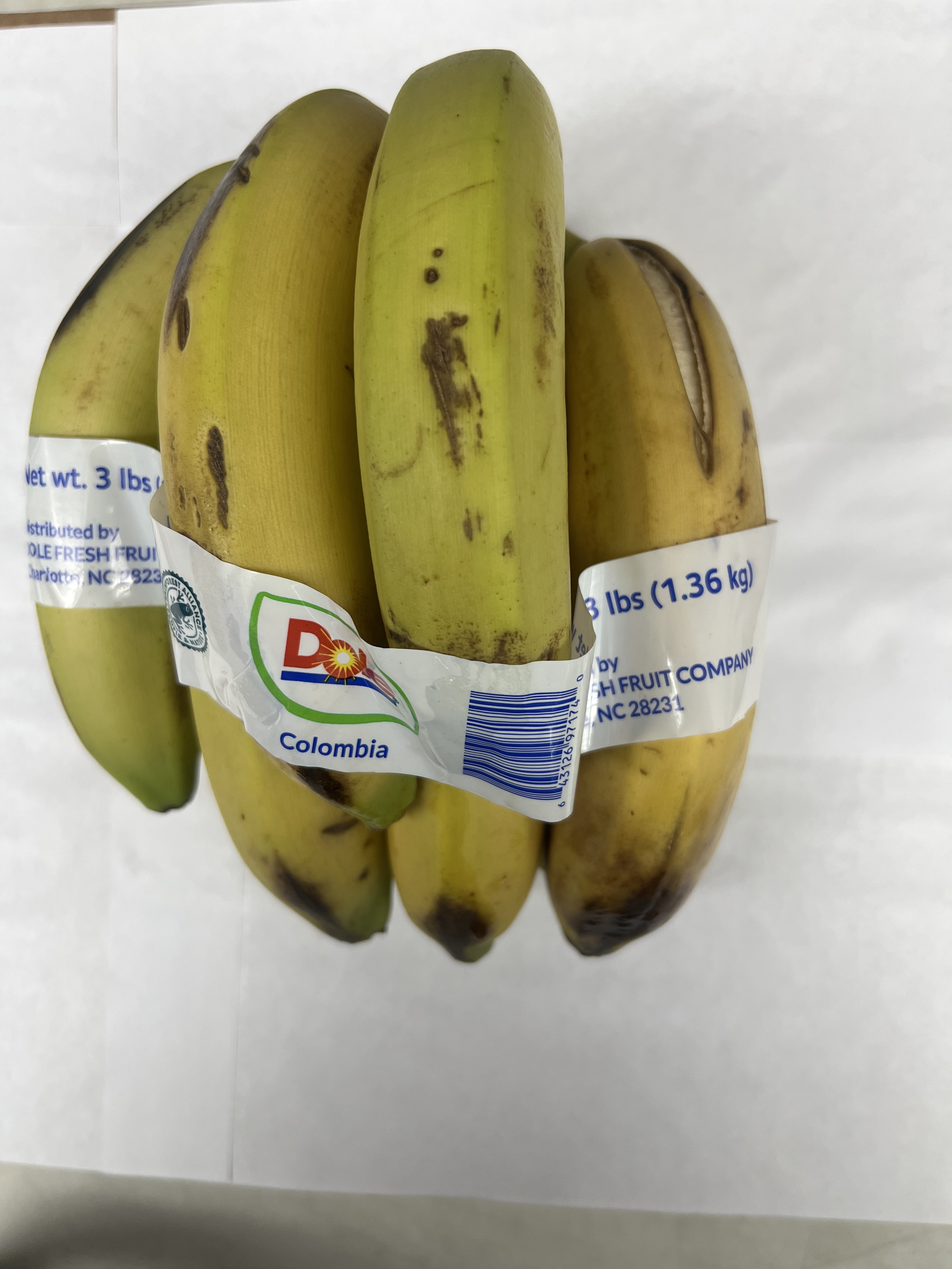produce: (14, 46, 769, 966)
